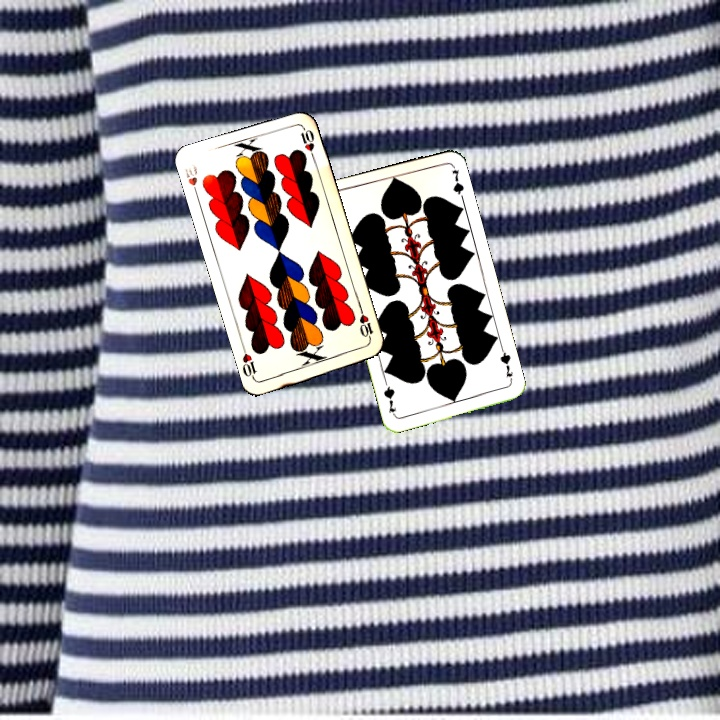G7: (496, 345, 516, 380)
H10: (355, 304, 376, 345), (181, 160, 201, 200)
